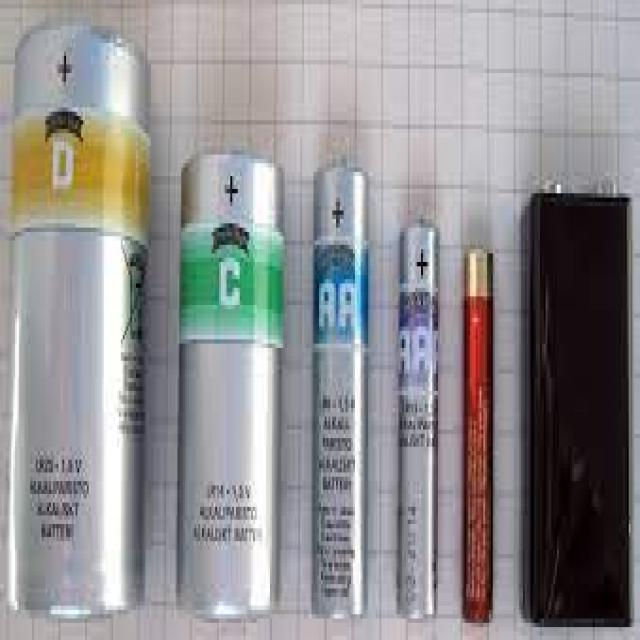battery: (5, 21, 152, 620), (175, 150, 284, 622), (522, 178, 633, 626), (312, 157, 369, 620), (396, 218, 440, 620), (464, 244, 494, 623)
